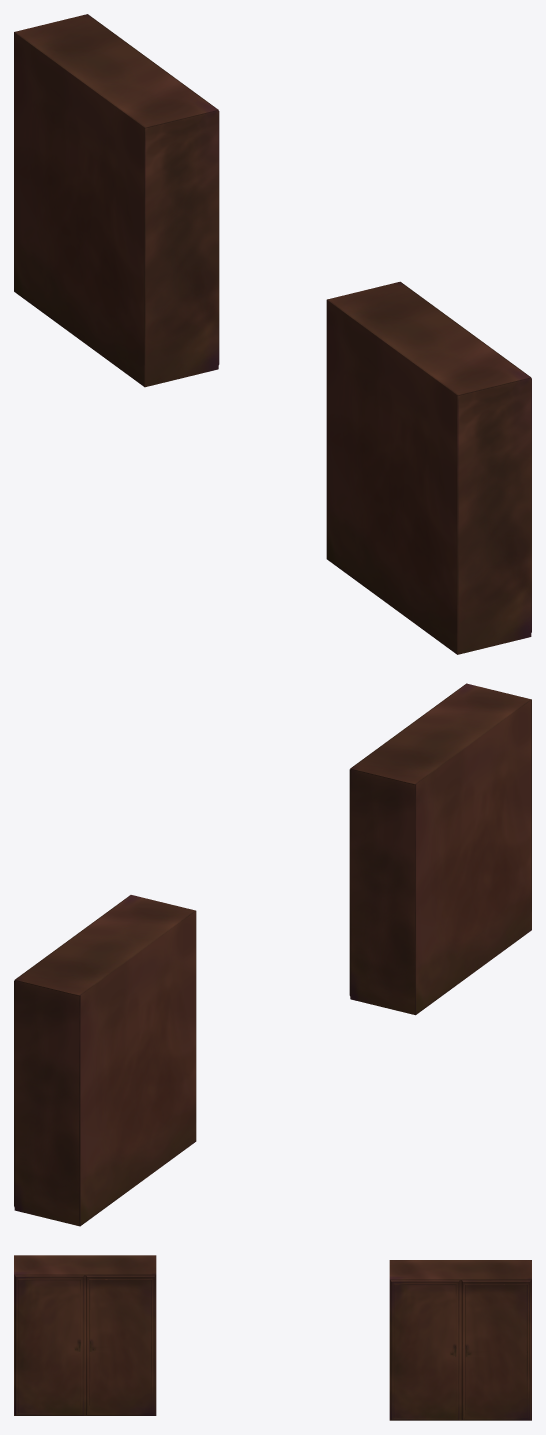
Rendered from woodencabnet.fbx.
3 renders of one model, top to bottom at view 1: azimuth 30°, elevation 25°; view 2: azimuth 150°, elevation 25°; view 3: azimuth 270°, elevation 25°, orthographic. The views are drawn at different scales.
Visible parts, largest first — view 1: Cube, Cube.001; view 2: Cube.001, Cube; view 3: Cube, Cube.001.
Boxes of the visible parts, <box> form: Cube: <box>326,281,531,654</box>; Cube.001: <box>14,14,219,387</box>; Cube.001: <box>14,895,196,1226</box>; Cube: <box>349,683,531,1015</box>; Cube: <box>14,1255,156,1415</box>; Cube.001: <box>389,1260,531,1420</box>.
Size of the model in its own units: 89.66 by 205 by 665.
1 material, 1 textured.
